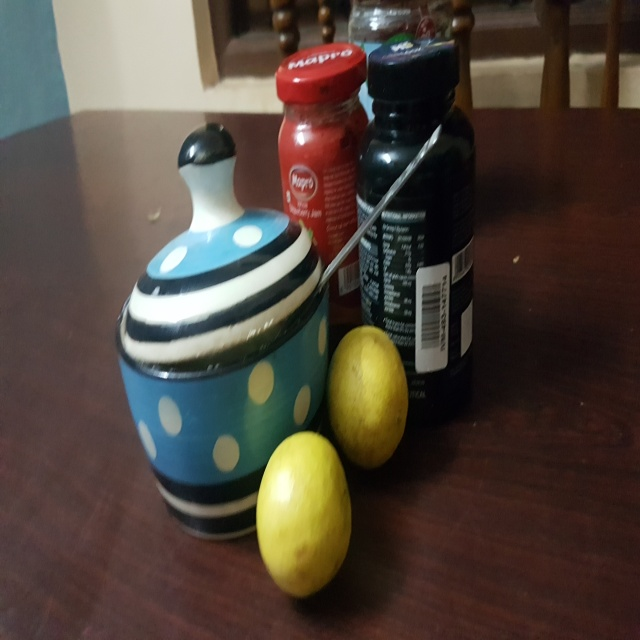lemon: (254, 423, 363, 600), (311, 318, 430, 477)
